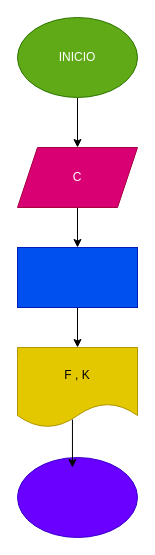
Some shapes in this 155 by 555 pixel diagram are drawn without their labels. Each missing label, with the box of its shape:
FIN: (16, 456, 138, 538)
K=C+273.15 F=1.8 * C+32: (16, 246, 138, 308)
